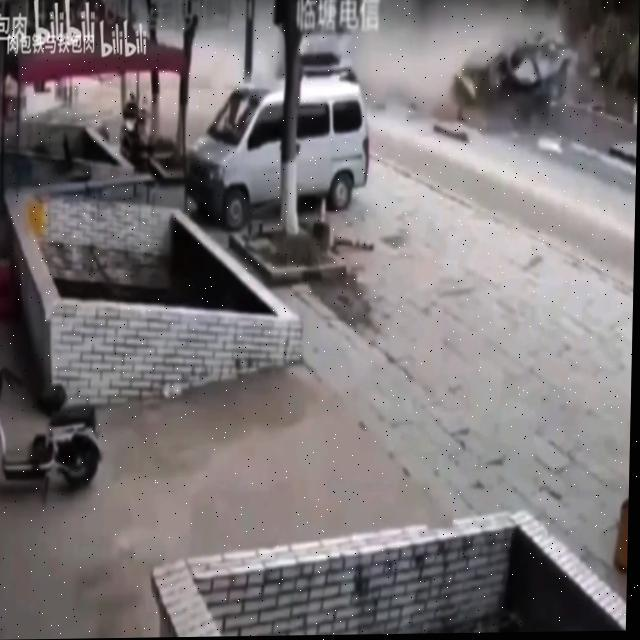single accident: (163, 59, 404, 258)
